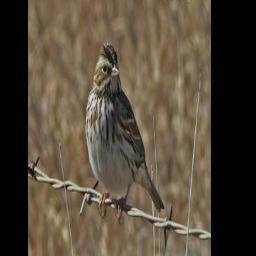Sparrow: (82, 40, 165, 225)
